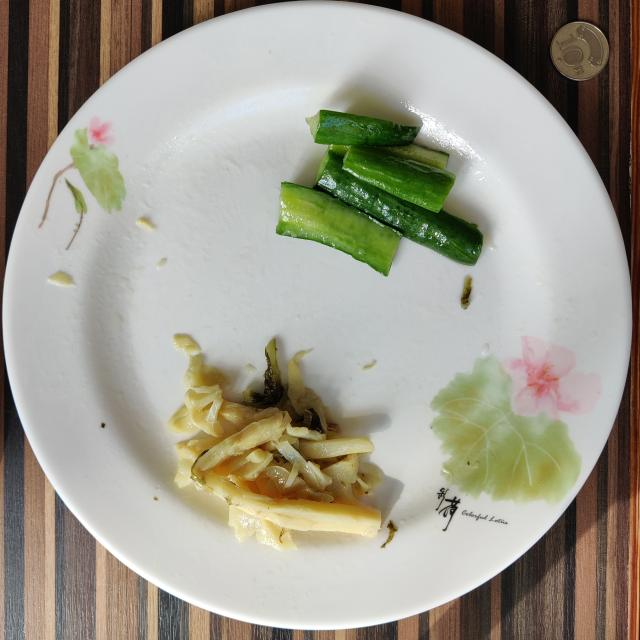coin: (550, 21, 609, 80)
cucumber: (276, 110, 482, 275)
